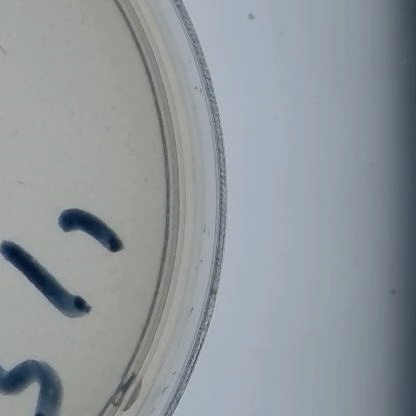worm: (9, 176, 33, 189), (0, 35, 13, 59)
